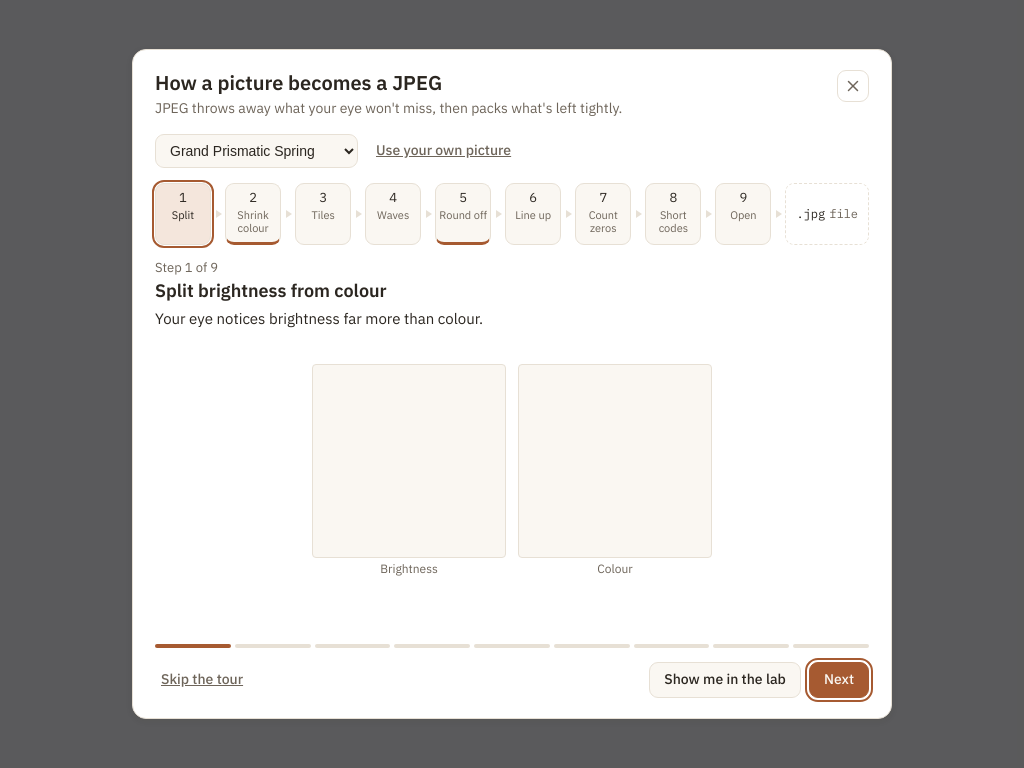
Scenario: JpegTour.svelte › moves with Next, Back, the strip and the arrow keys
The image size is (1024, 768).
Expected: the button "Back" is not shown
Step 1. Click the button "Next" → click(839, 680), box [809, 662, 869, 698]
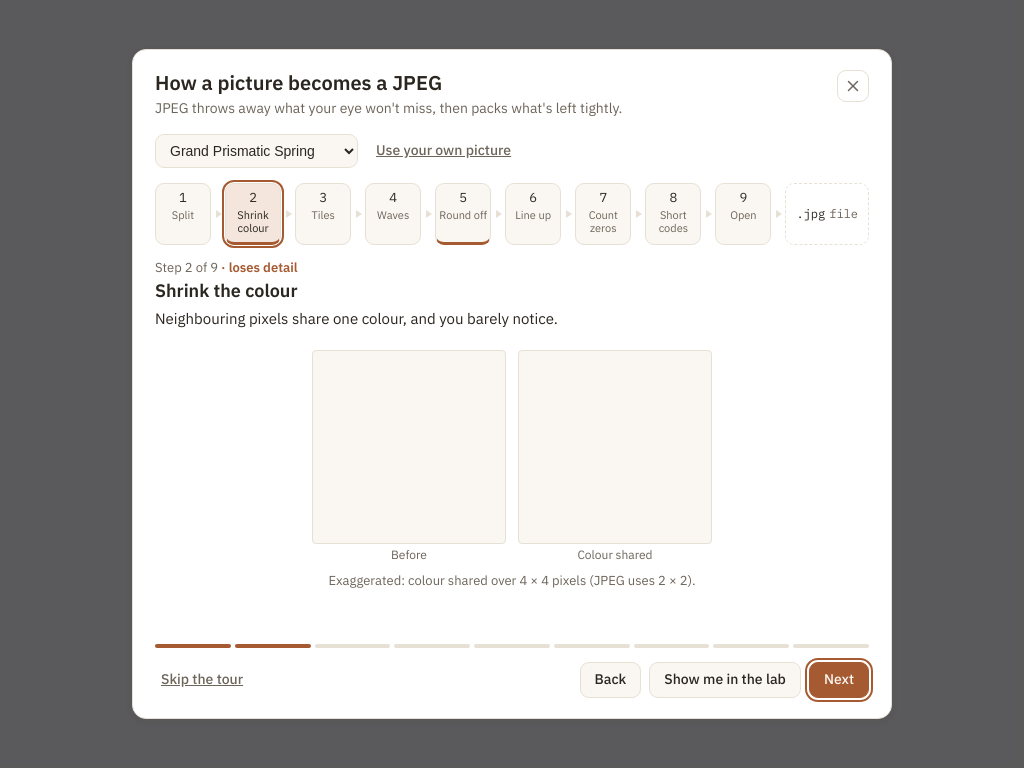
Expected: the element with class "tour-label" reads "Step 2 of 9 · loses detail", [155, 259, 298, 276]
Step 2. Press ArrowRight in the dialog
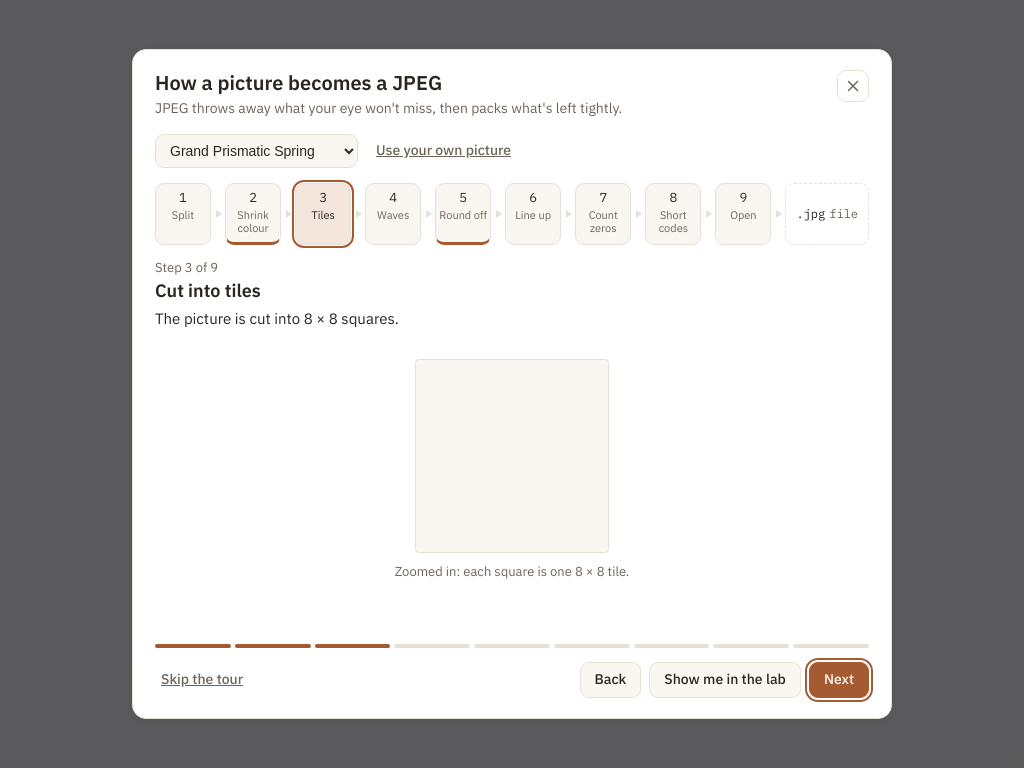
Expected: the text with class "tour-label" reads "Step 3 of 9", [155, 259, 218, 276]
Step 3. Press ArrowLeft in the dialog
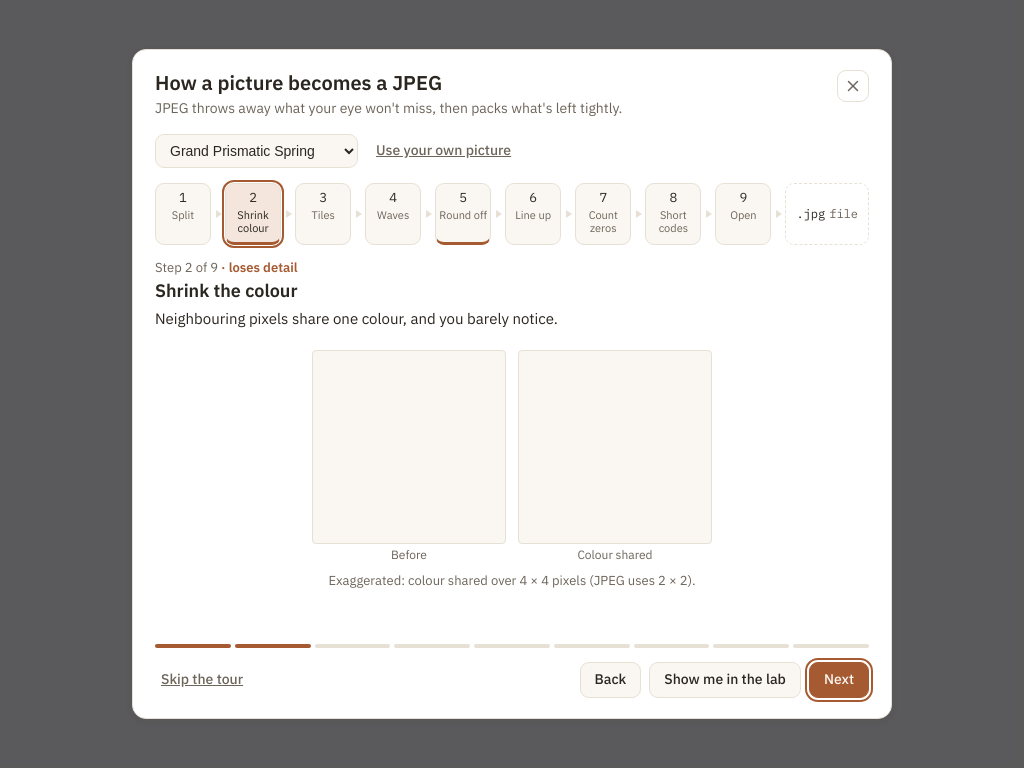
Expected: the element with class "tour-label" reads "Step 2 of 9 · loses detail", [155, 259, 298, 276]
Step 4. Click the button "5 Round off" → click(463, 214), box [435, 183, 491, 245]
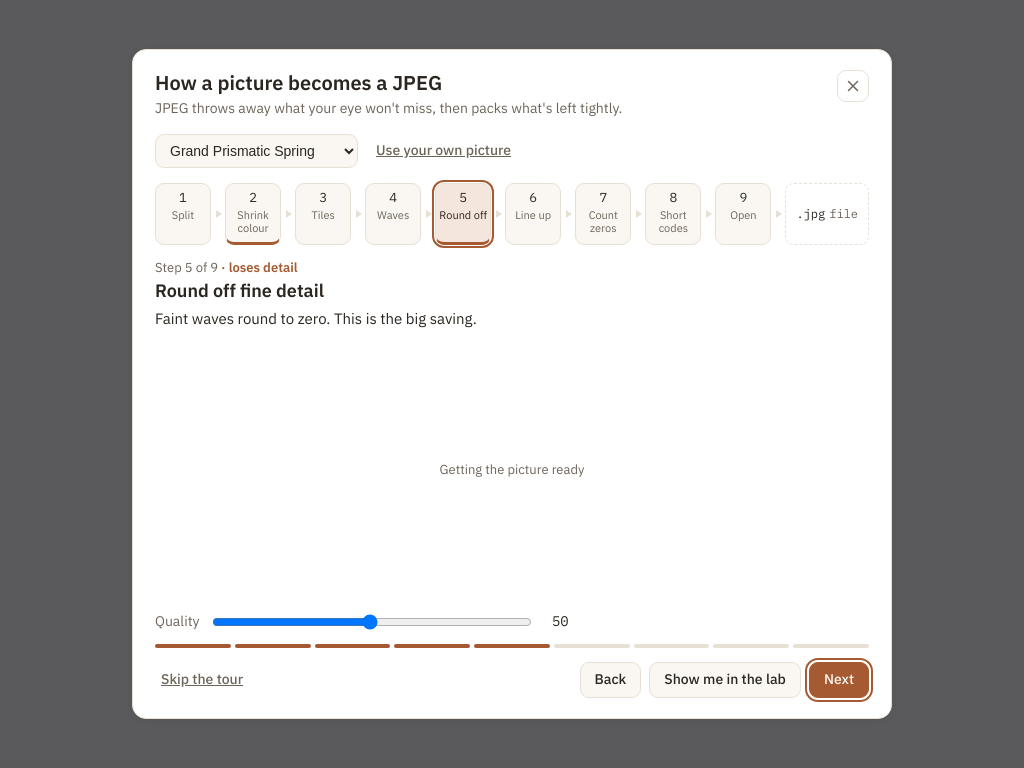
Expected: the element with class "tour-label" reads "Step 5 of 9 · loses detail", [155, 259, 298, 276]
Step 5. Click the button "Back" → click(610, 680), box [580, 662, 641, 698]
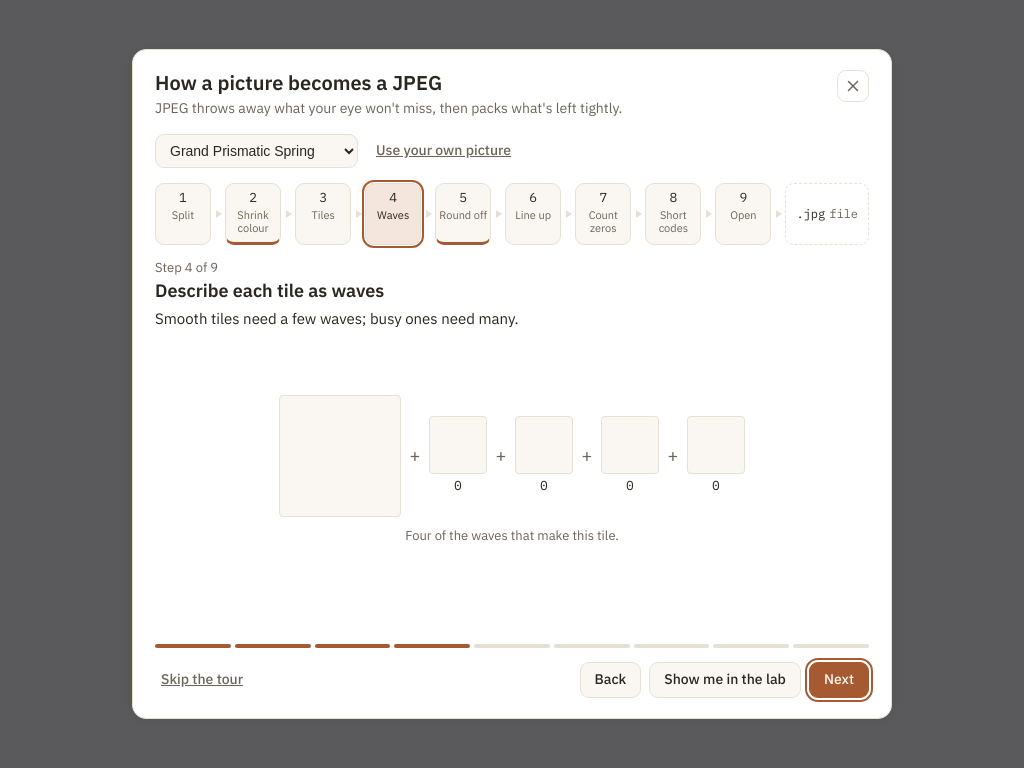
Expected: the text with class "tour-label" reads "Step 4 of 9", [155, 259, 218, 276]
